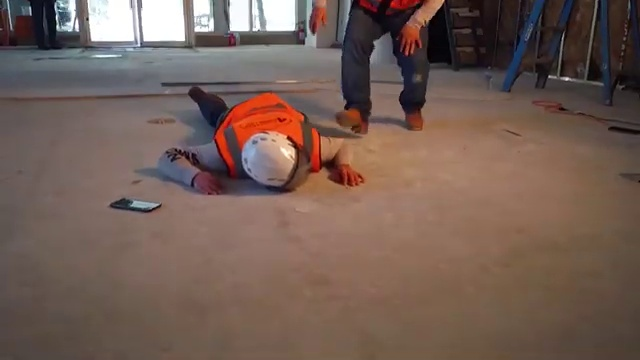helmet: (237, 134, 315, 194)
jacket: (215, 94, 314, 130)
